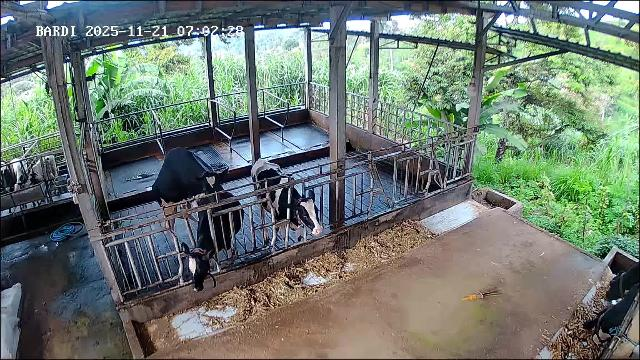mounting: (152, 148, 229, 250)
